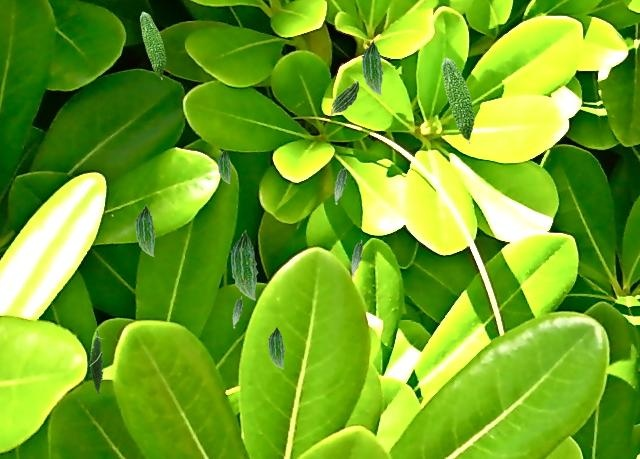ampalaya: (441, 57, 475, 143), (229, 229, 258, 300), (139, 11, 167, 80), (361, 39, 384, 96), (134, 204, 156, 257), (88, 329, 105, 395), (329, 80, 359, 116), (267, 325, 285, 369), (334, 165, 347, 205), (217, 148, 231, 184), (350, 239, 363, 277), (232, 296, 243, 328)
